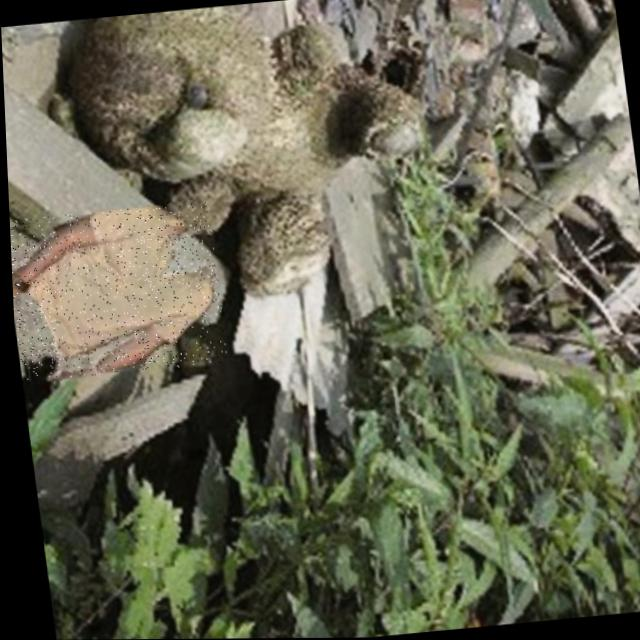Person in Rubble: (7, 201, 224, 381)
